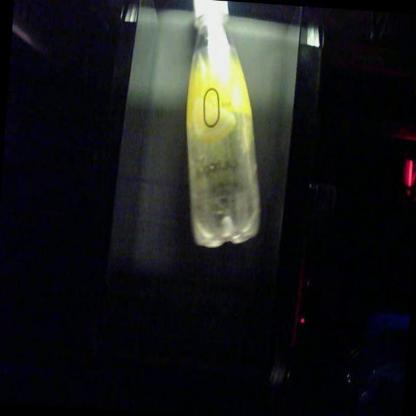Plastic Bottle: (187, 0, 261, 248)
